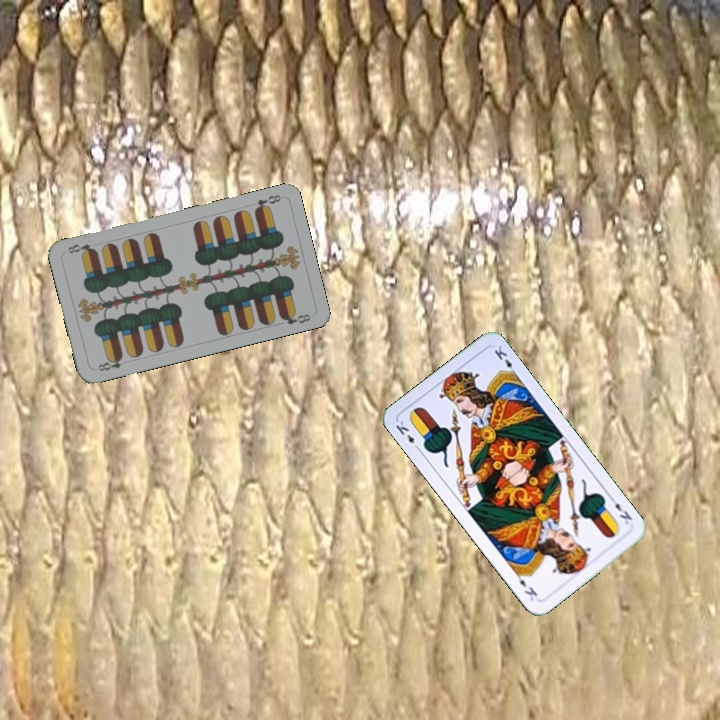E8: (250, 190, 284, 214), (91, 352, 125, 374)
EK: (391, 416, 423, 453), (605, 492, 635, 527)
